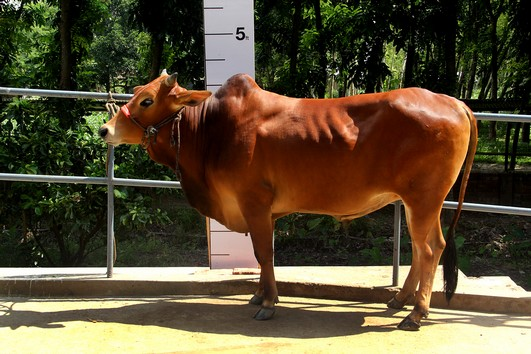cow: (93, 58, 485, 341)
